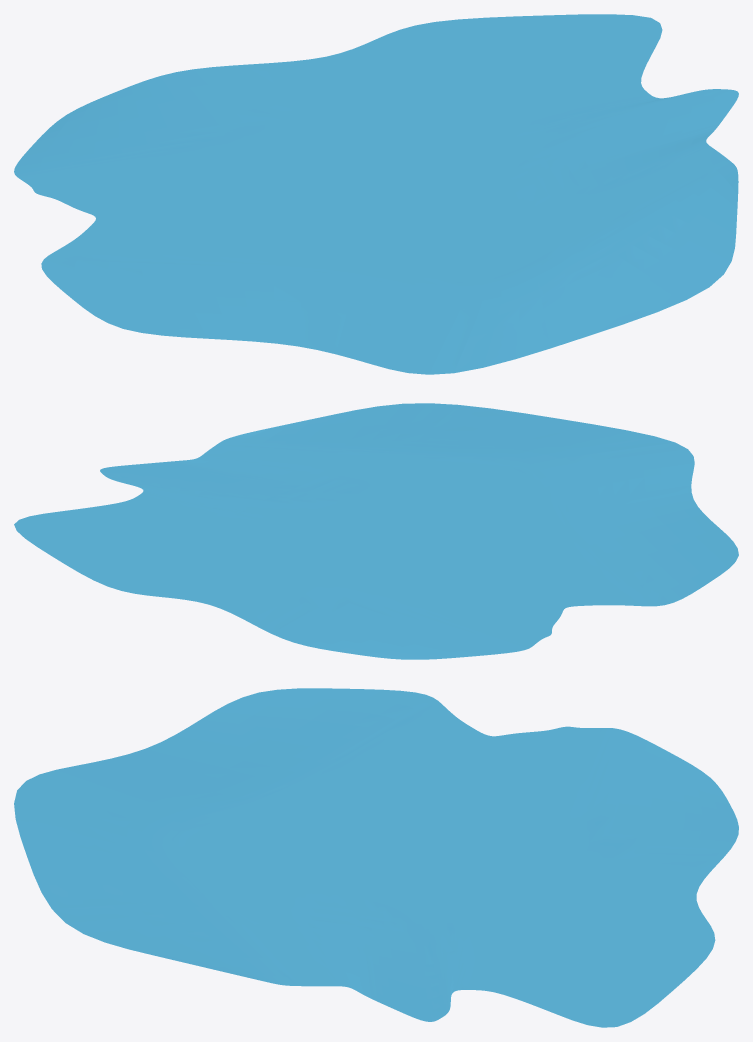
The model's file is puddle.fbx.
3 renders of one model, top to bottom at view 1: azimuth 30°, elevation 25°; view 2: azimuth 150°, elevation 25°; view 3: azimuth 270°, elevation 25°, orthographic. The views are drawn at different scales.
Parts seen in each view (by area): view 1: bottom.004; view 2: bottom.004; view 3: bottom.004.
Part boxes in pixels (x1=…): bottom.004: x1=14, y1=14, x2=738, y2=374; bottom.004: x1=14, y1=403, x2=738, y2=659; bottom.004: x1=14, y1=688, x2=738, y2=1027.
Bounding box in the file's own units: 1503 × 7.68 × 1357.
